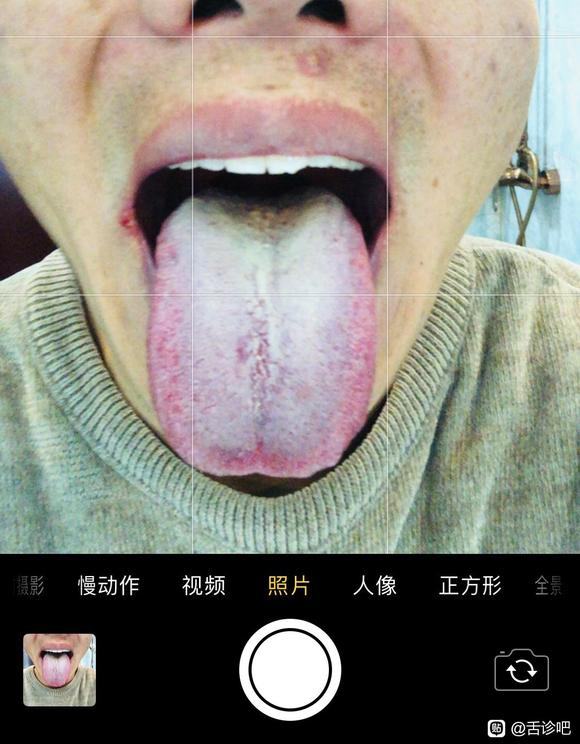baitaishe: (146, 184, 375, 479)
hongdianshe: (228, 198, 303, 241)
liewenshe: (247, 300, 276, 407)
shenquao: (201, 185, 319, 212)
